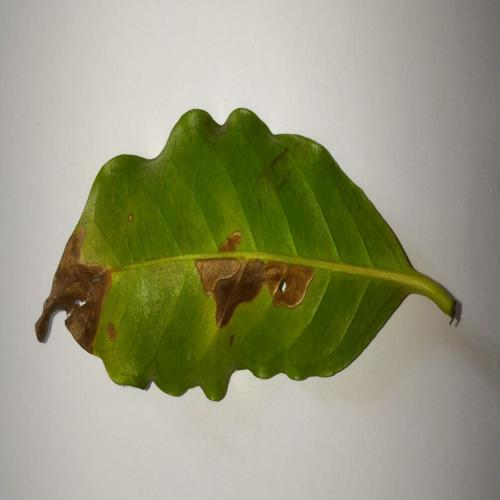leaf: (128, 213, 133, 220)
